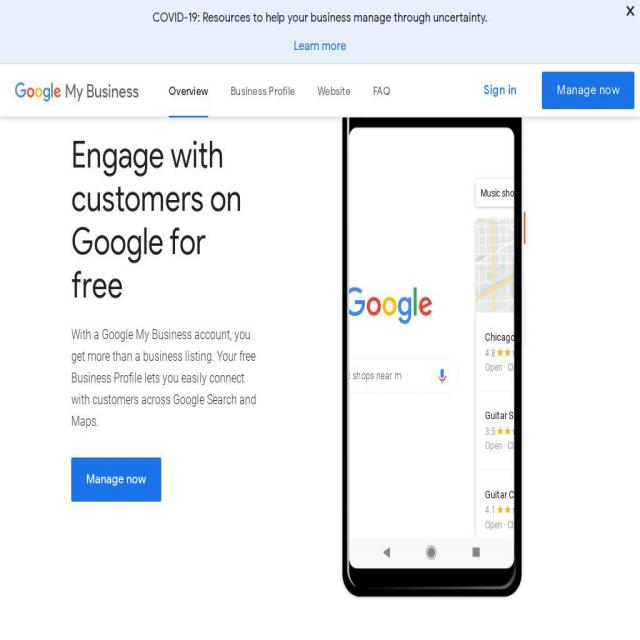login-option: (478, 70, 522, 110)
navigation-links: (161, 68, 400, 108)
